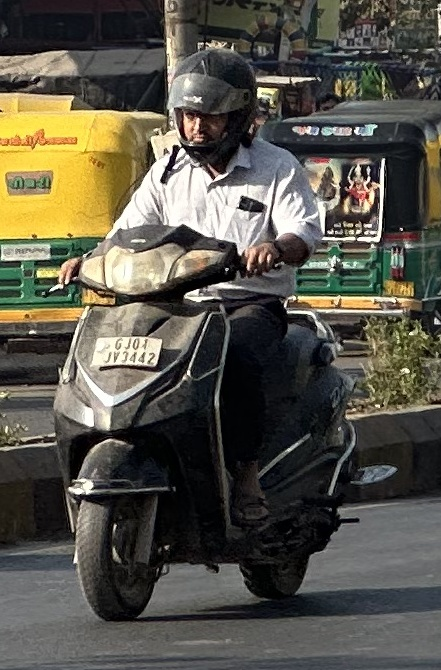BikeWithRider: (40, 41, 401, 629)
Helmet: (158, 41, 266, 167)
